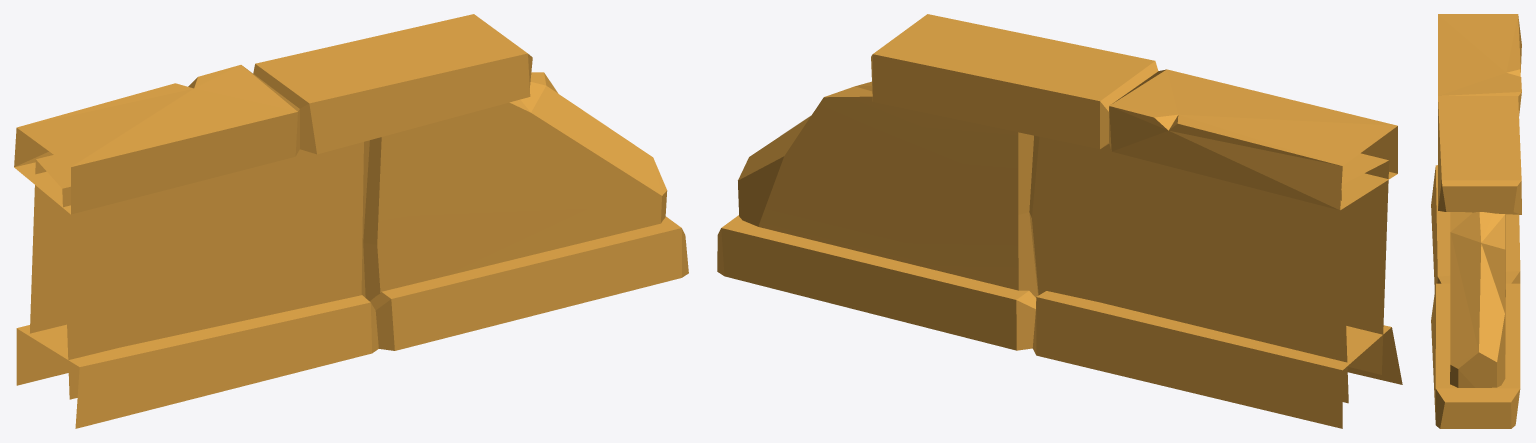
The model's file is wall.fbx.
3 views of the same model, side by side, from view 1: azimuth 30°, elevation 25°; view 2: azimuth 150°, elevation 25°; view 3: azimuth 270°, elevation 25° (orthographic). The views are drawn at different scales.
Parts seen in each view (by area): view 1: wall-graveyard-end; view 2: wall-graveyard-end; view 3: wall-graveyard-end.
Boxes of the visible parts, bbox=[...] form: wall-graveyard-end: bbox=[14, 14, 688, 428]; wall-graveyard-end: bbox=[717, 14, 1402, 428]; wall-graveyard-end: bbox=[1431, 14, 1521, 428].
Size of the model in its own units: 133 by 54.3 by 22.9.
